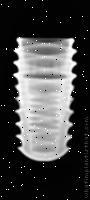Cowellmedi: (14, 37, 76, 163)
